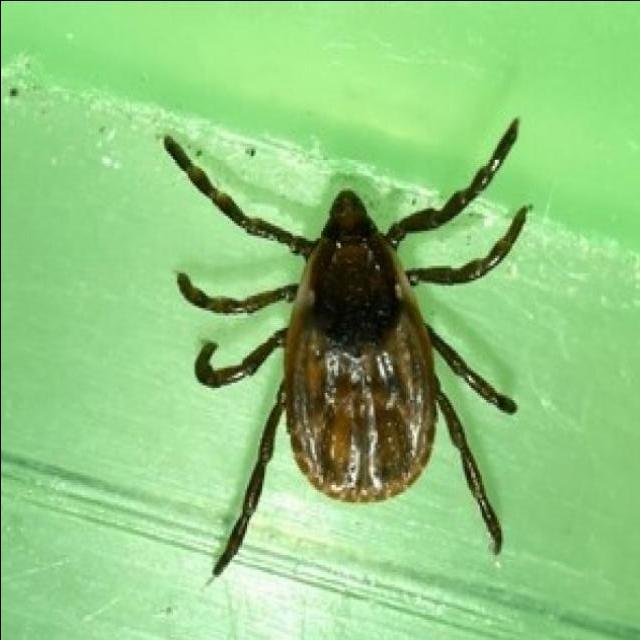Rhipicephalus Sanguineus-F: (159, 115, 531, 581)
